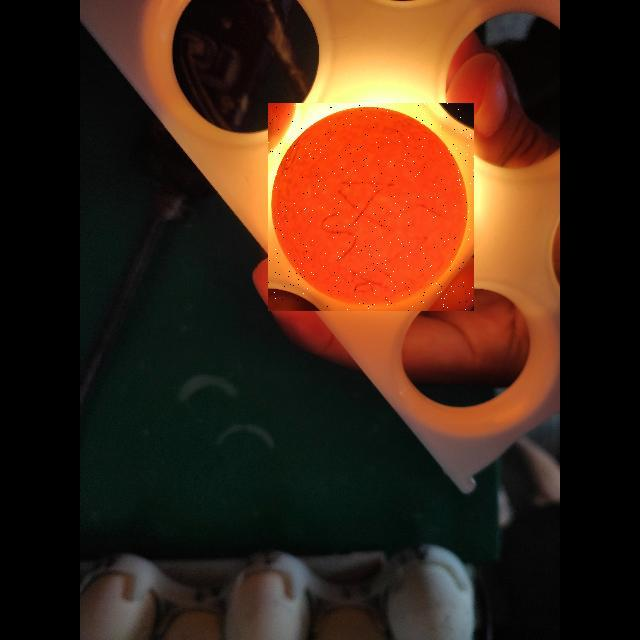Infertile: (268, 103, 474, 311)
